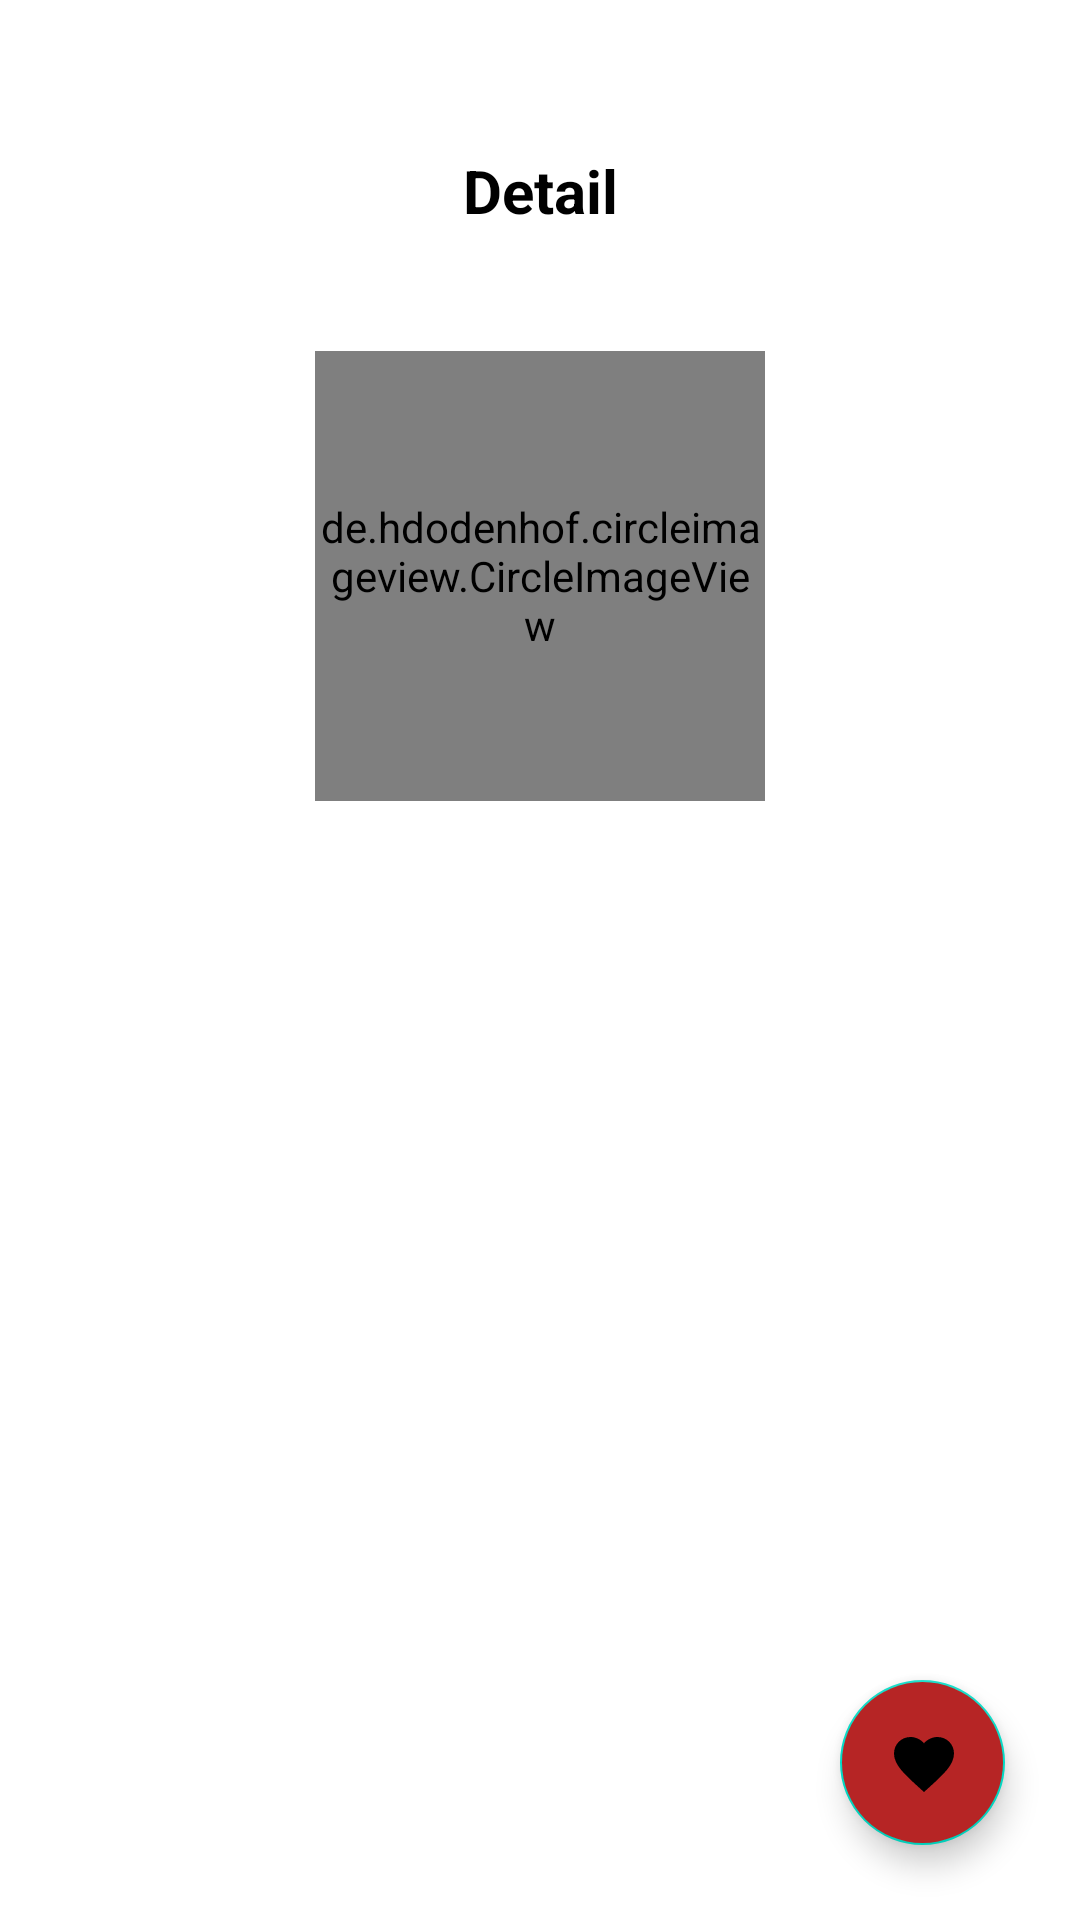

Screen size 1080 x 1920. Icon name, then its center in pixels as (x=x, y=y):
favorite: (x=922, y=1762)
